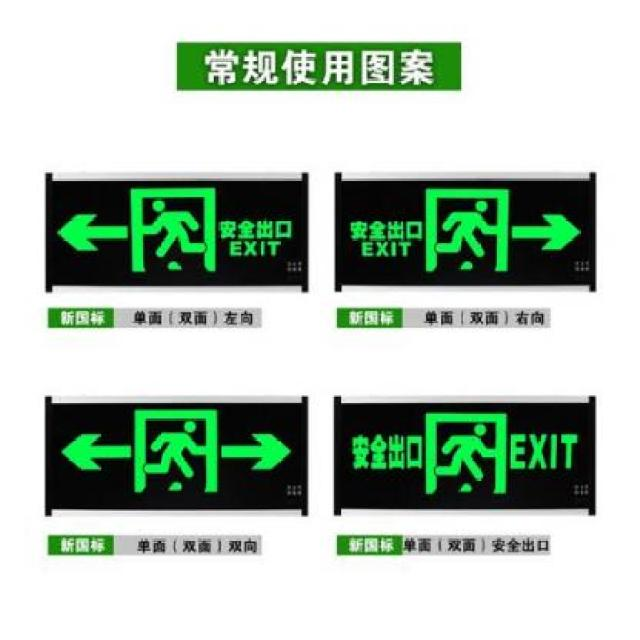exit_sign: (38, 394, 307, 519), (35, 171, 302, 288), (335, 172, 597, 291), (336, 396, 598, 512)
